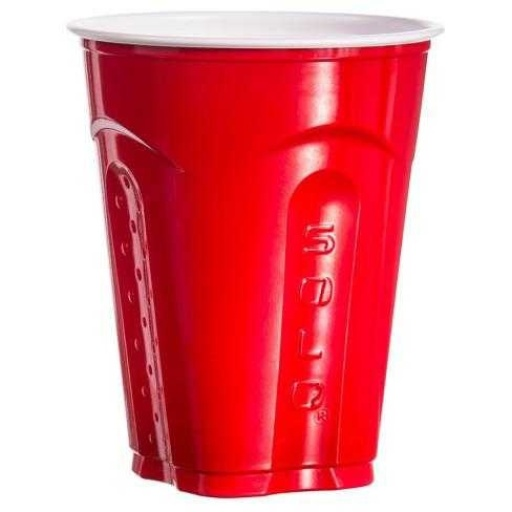cup: (64, 0, 446, 499)
